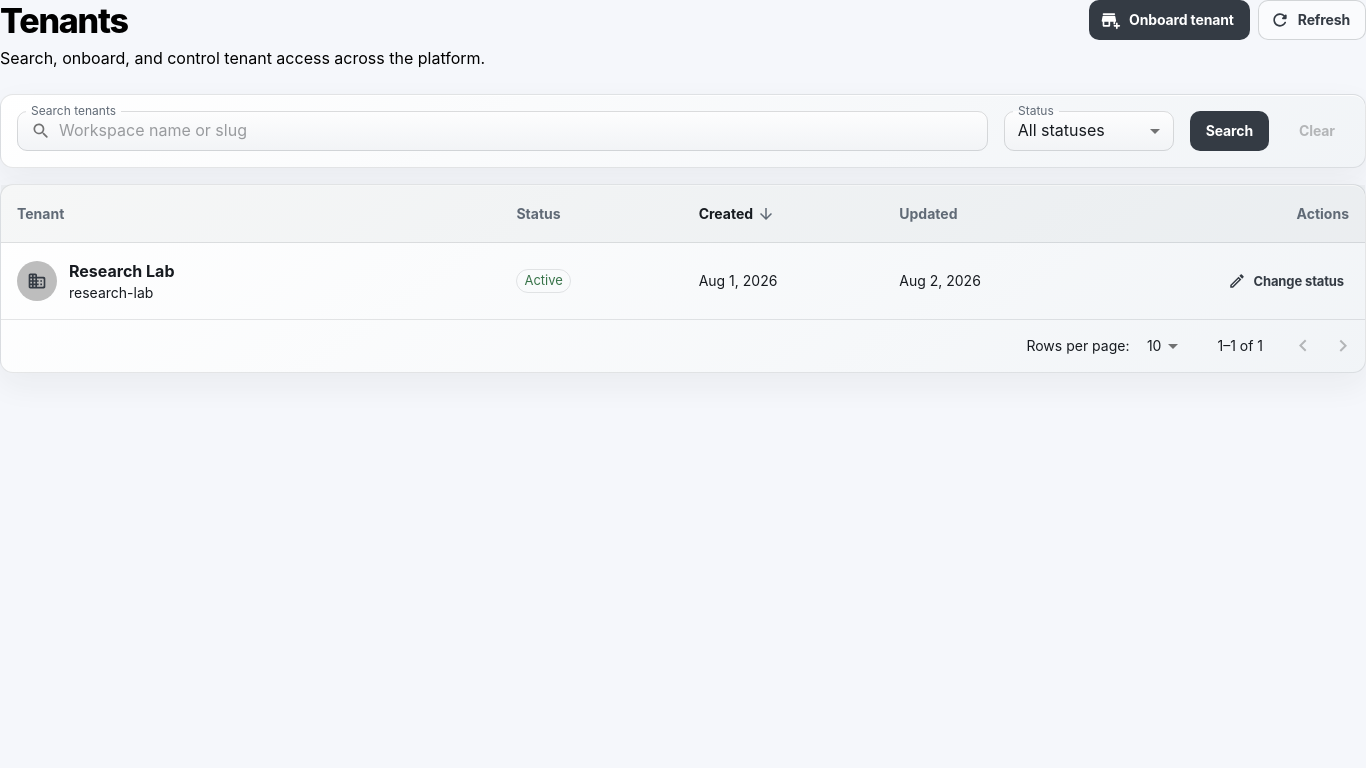
Test: SystemTenantsPage › normalizes and submits administrative tenant onboarding
This screenshot has width=1366, height=768.
Expected: the text "Research Lab" is shown, [69,259,174,283]
Click the button "Onboard tenant" at (1169, 20), box [1089,0,1250,40]
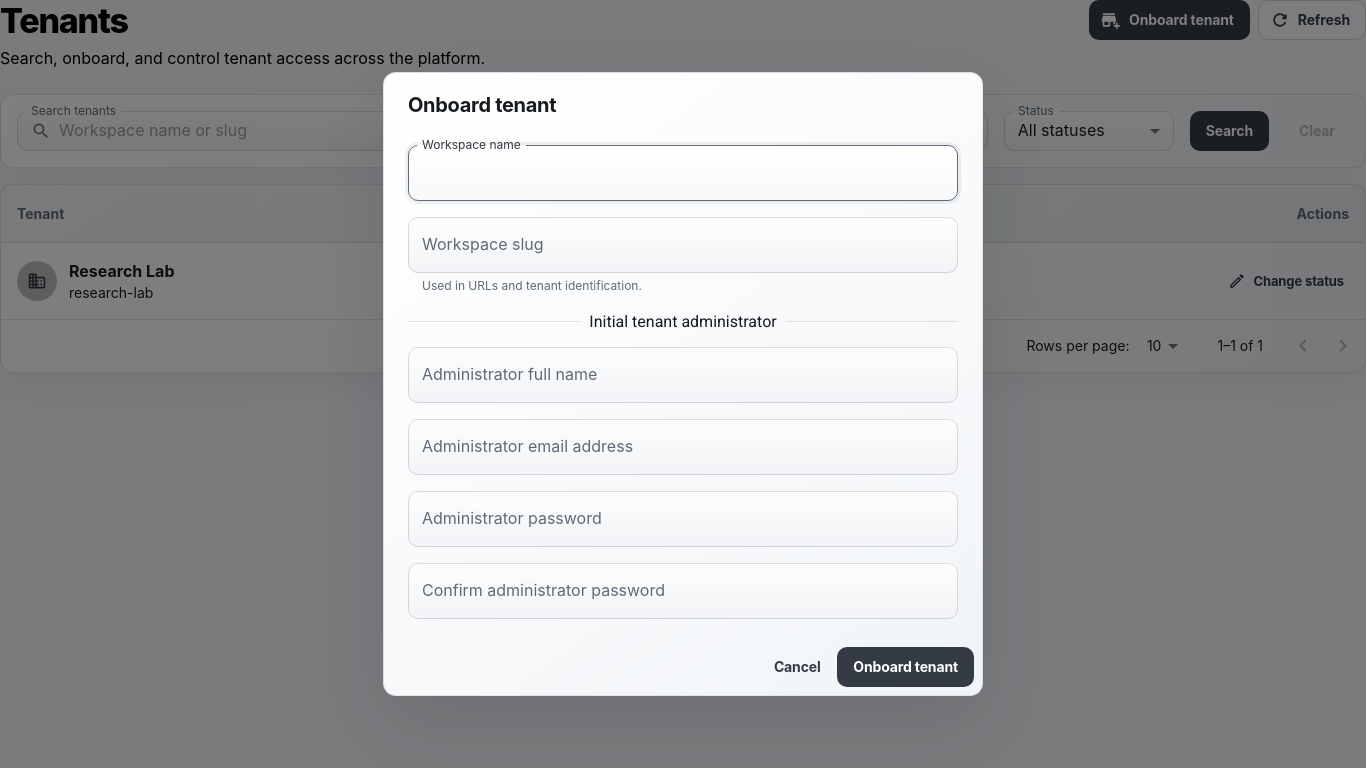
Type "  Research Lab  " into the field labelled "Workspace name" at (683, 173), box [408,145,958,201]
Type "  Research-Lab  " into the field labelled "Workspace slug" at (683, 245), box [408,217,958,273]
Type "  Grace Admin  " into the field labelled "Administrator full name" at (683, 375), box [408,347,958,403]
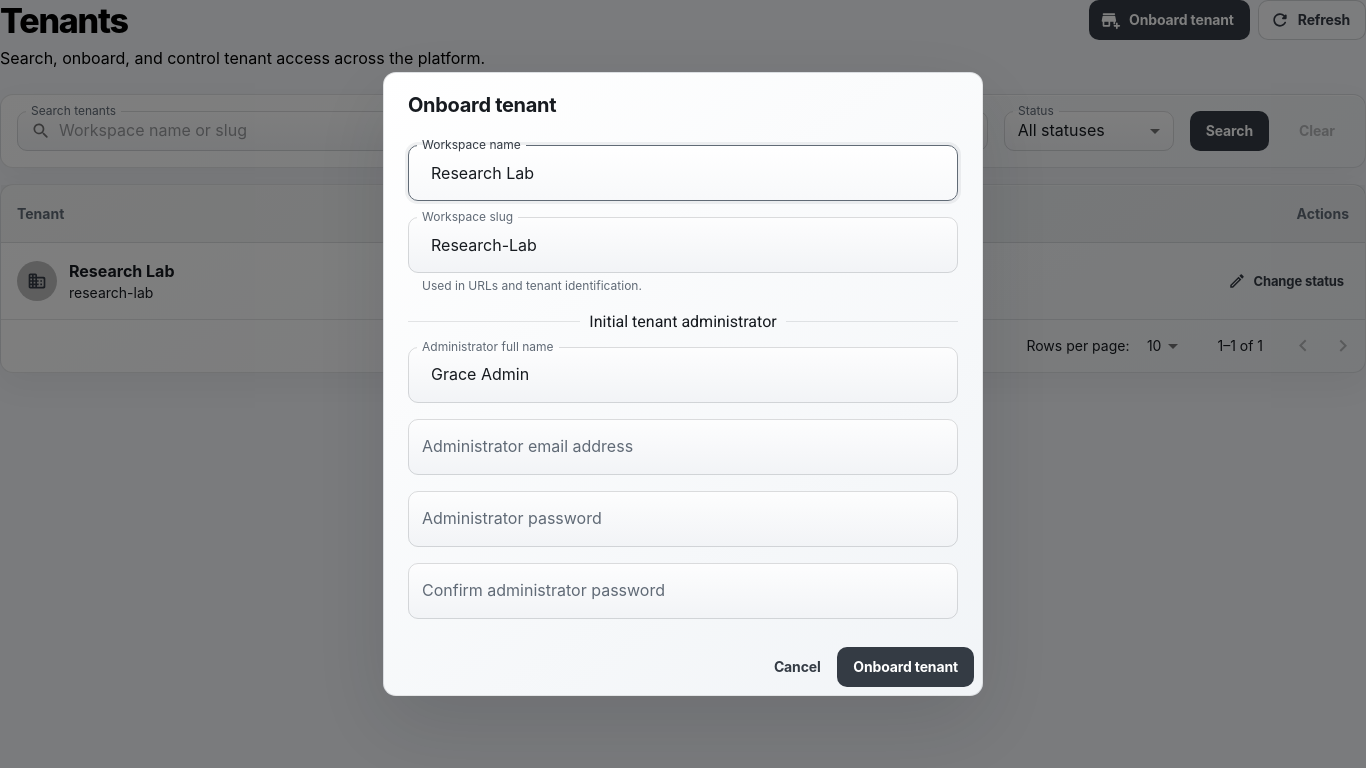
Type "  GRACE@EXAMPLE.COM  " into the field labelled "Administrator email address" at (683, 447), box [408,419,958,475]
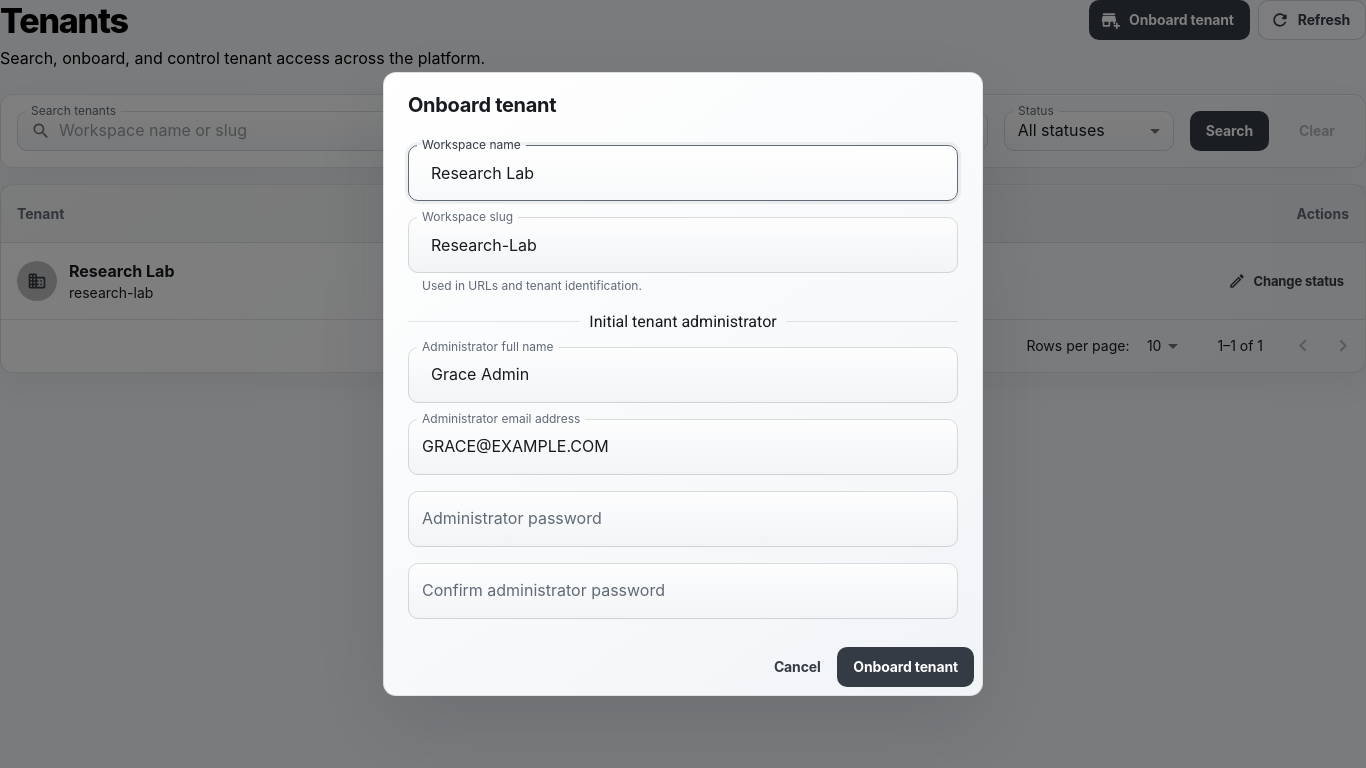
Type "Strong@123" into the password field labelled "Administrator password" at (683, 519), box [408,491,958,547]
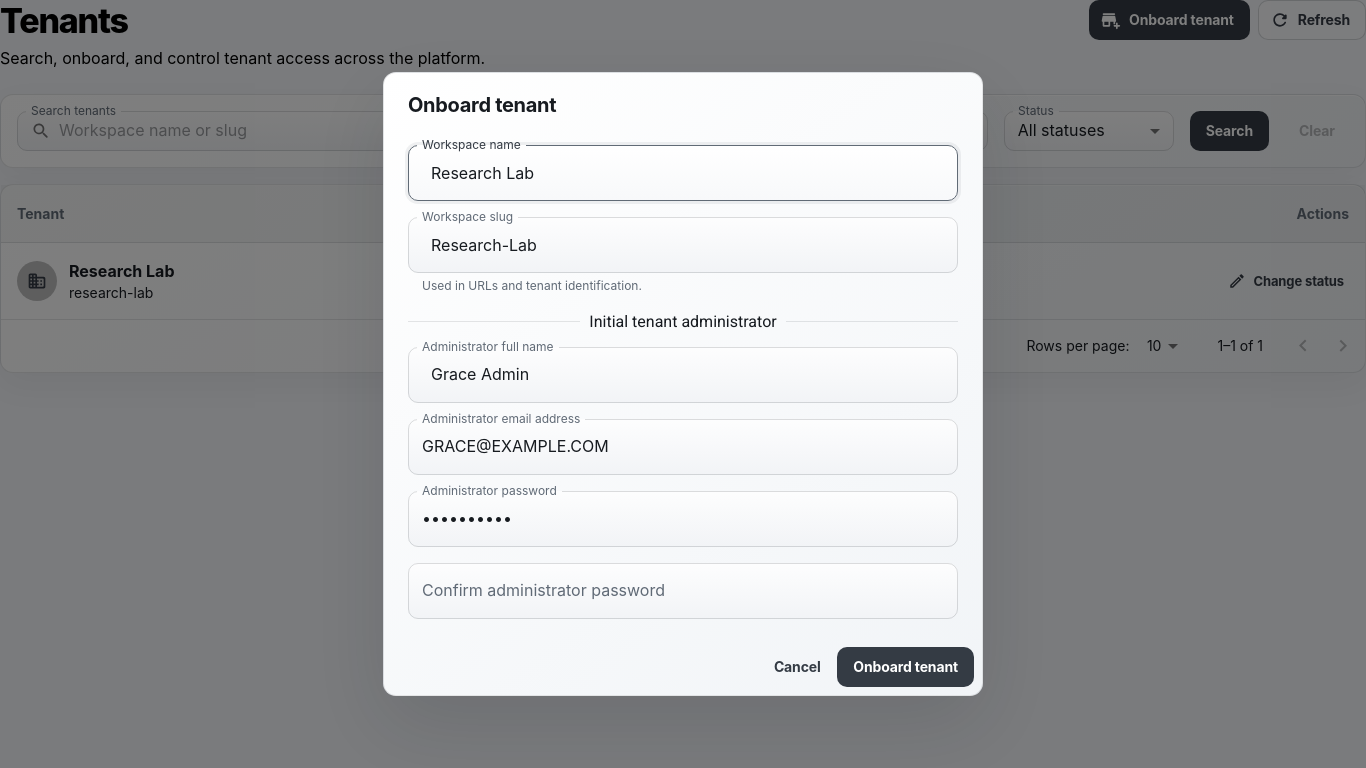
Type "Strong@123" into the password field labelled "Confirm administrator password" at (683, 591), box [408,563,958,619]
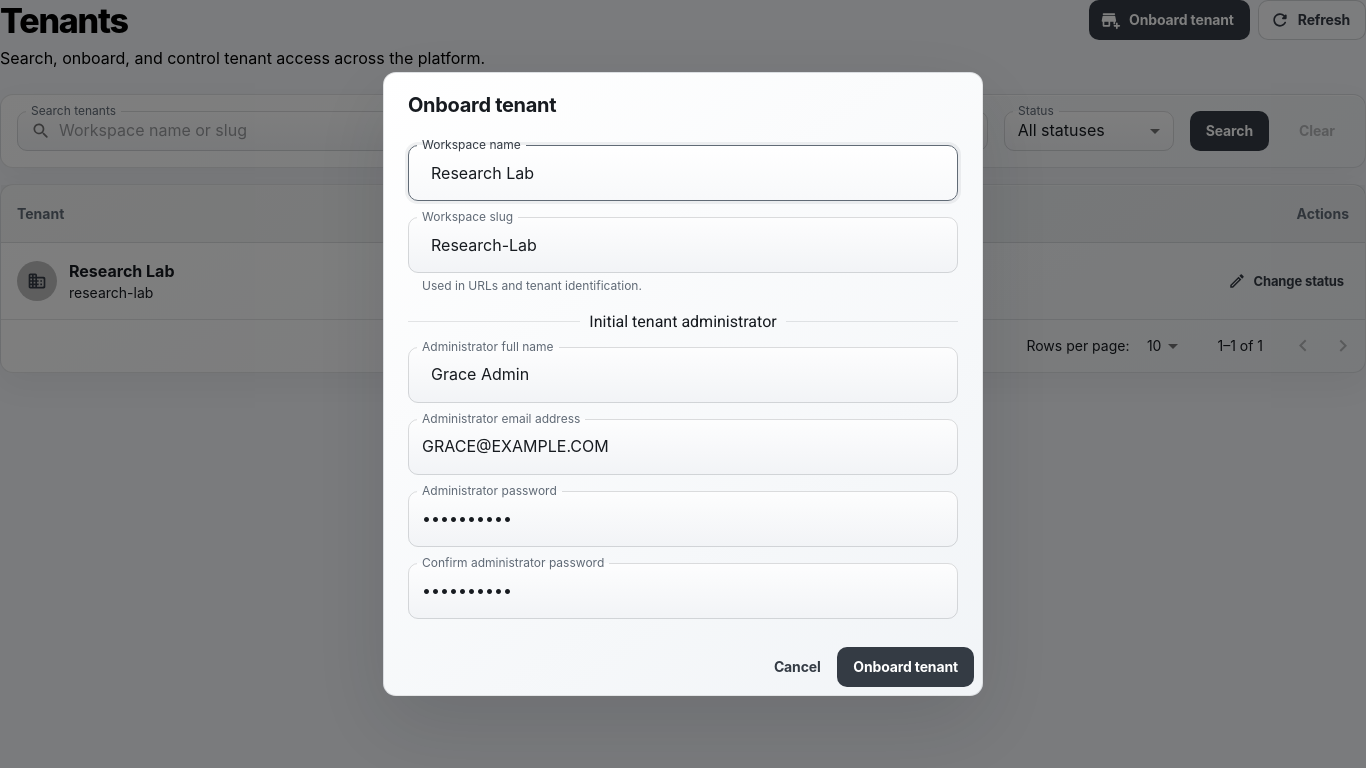
Click the button "Onboard tenant" at (906, 667), box [837,647,974,687]
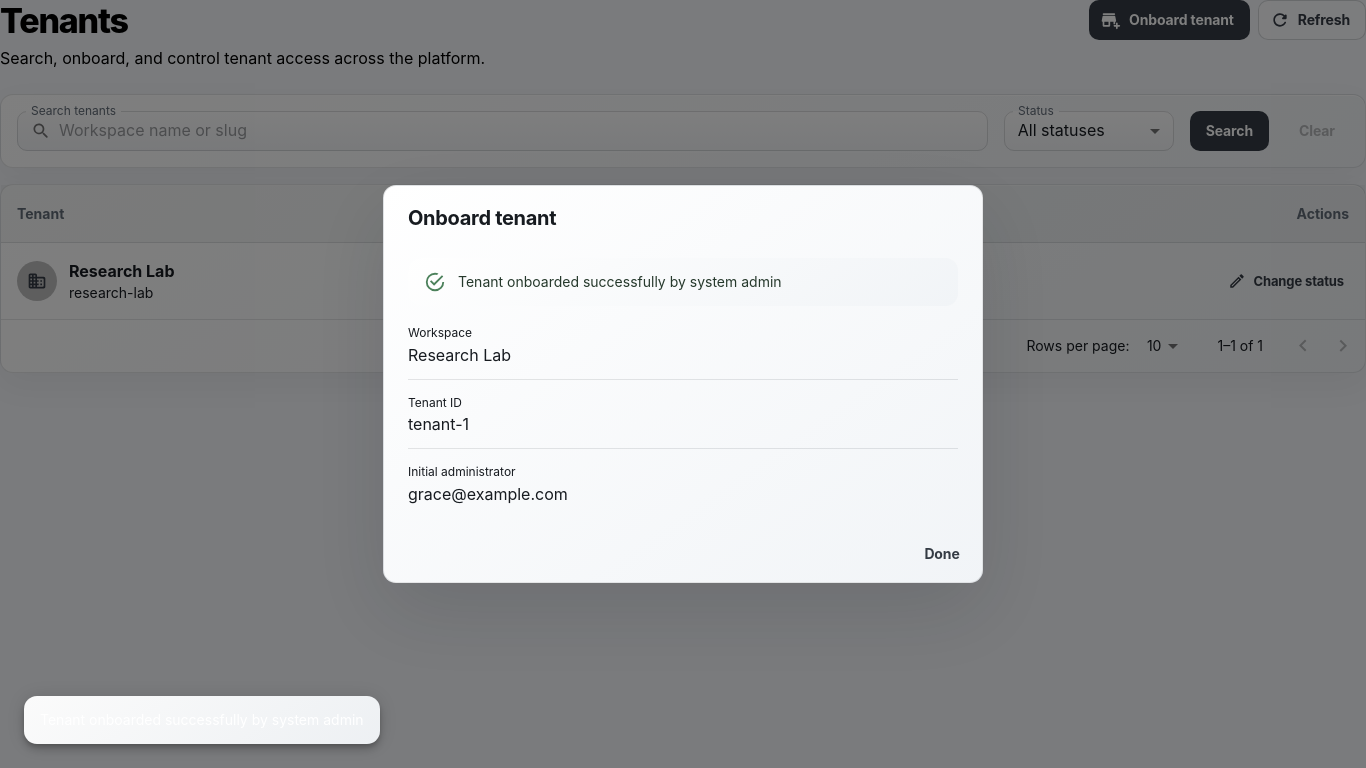
Expected: the text "tenant-1" is shown, [408,414,469,434]
Expected: the text "grace@example.com" is shown, [408,484,568,504]
